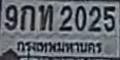0: (74, 5, 85, 30)
2: (58, 5, 72, 30), (88, 5, 100, 31)
5: (103, 6, 114, 31)
9: (4, 4, 17, 29)
A01: (20, 4, 34, 30)
A23: (38, 4, 52, 30)
BKK: (13, 37, 104, 58)
